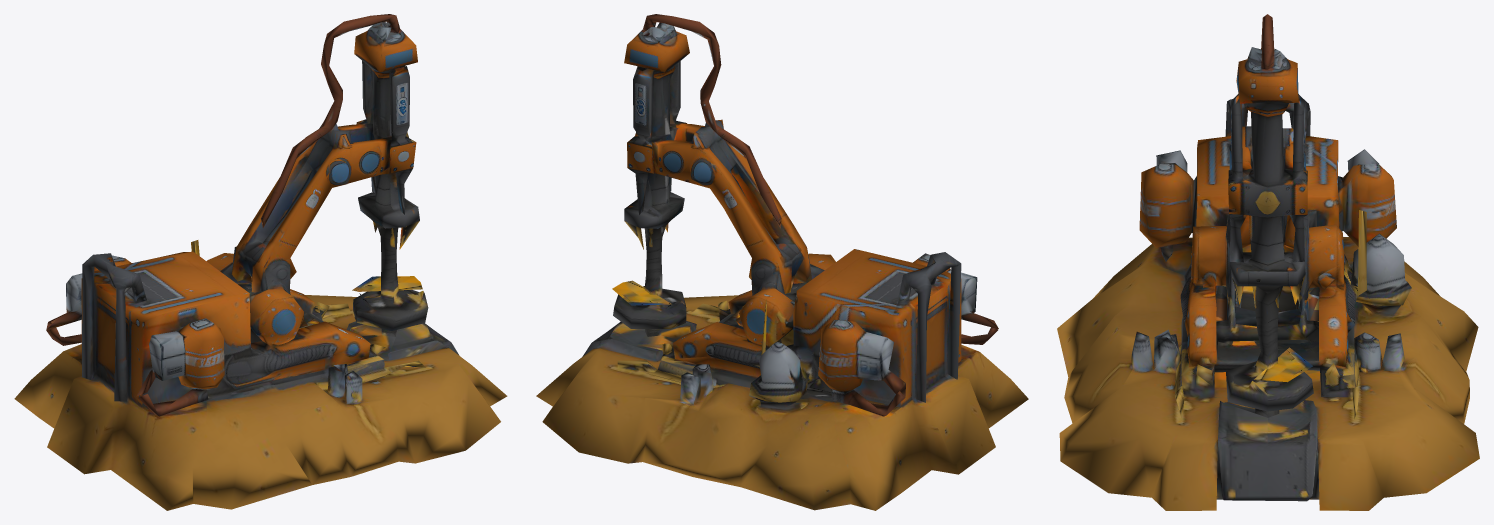
File: extractor-minerales.fbx
The picture shows the model from 3 angles, left to right: view 1: azimuth 30°, elevation 25°; view 2: azimuth 150°, elevation 25°; view 3: azimuth 270°, elevation 25°; orthographic projection. The views are drawn at different scales.
Parts seen in each view (by area): view 1: tripo_node_a0d3d615; view 2: tripo_node_a0d3d615; view 3: tripo_node_a0d3d615.
Boxes of the visible parts, bbox=[...] form: tripo_node_a0d3d615: bbox=[14, 14, 507, 510]; tripo_node_a0d3d615: bbox=[536, 14, 1028, 510]; tripo_node_a0d3d615: bbox=[1057, 14, 1479, 510].
Size of the model in its own units: 0.9999 by 0.8926 by 0.7966.
Materials: 1 (1 with a texture image).
